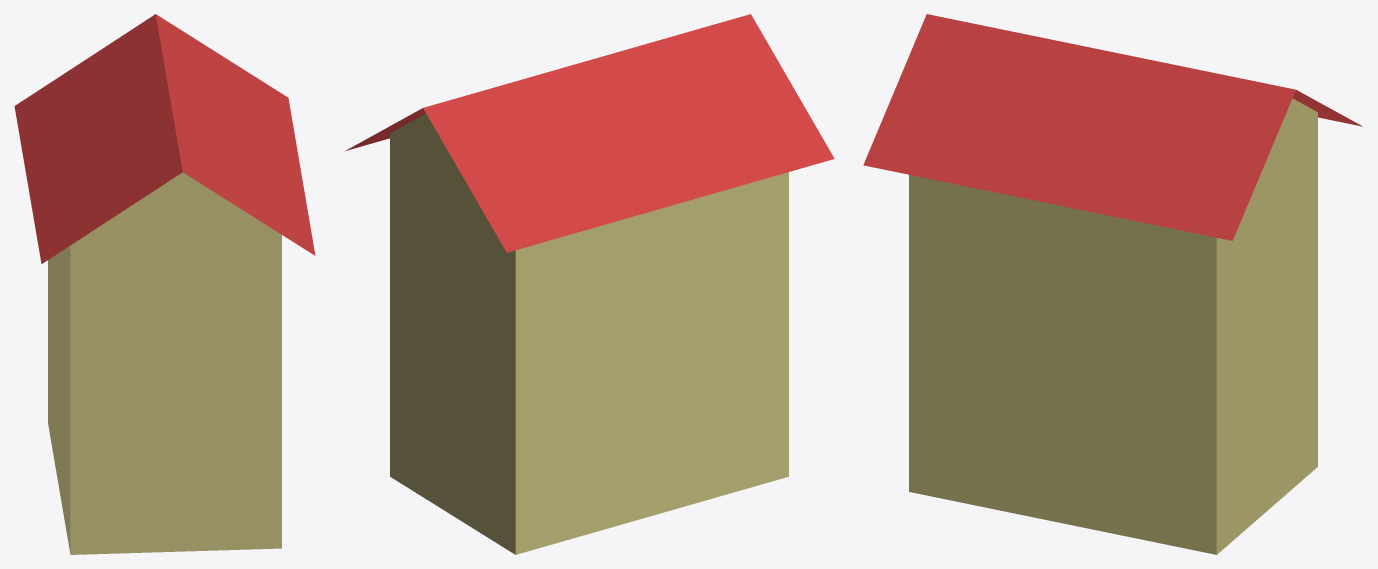
3 views of the same model, side by side, from view 1: azimuth 30°, elevation 25°; view 2: azimuth 150°, elevation 25°; view 3: azimuth 270°, elevation 25° (orthographic). The views are drawn at different scales.
Visible parts, largest first — view 1: group_5, group_3, group_4; view 2: group_5, group_3, group_4; view 3: group_5, group_3, group_4.
Boxes of the visible parts, bbox=[...] form: group_5: bbox=[48, 172, 281, 554]; group_3: bbox=[42, 14, 315, 263]; group_4: bbox=[14, 14, 315, 263]; group_5: bbox=[390, 113, 788, 554]; group_3: bbox=[450, 15, 834, 250]; group_4: bbox=[345, 14, 833, 252]; group_5: bbox=[909, 98, 1317, 554]; group_3: bbox=[864, 14, 1362, 240]; group_4: bbox=[863, 14, 1189, 232].
Bounding box in the file's own units: 13.14 × 14.63 × 13.84.
